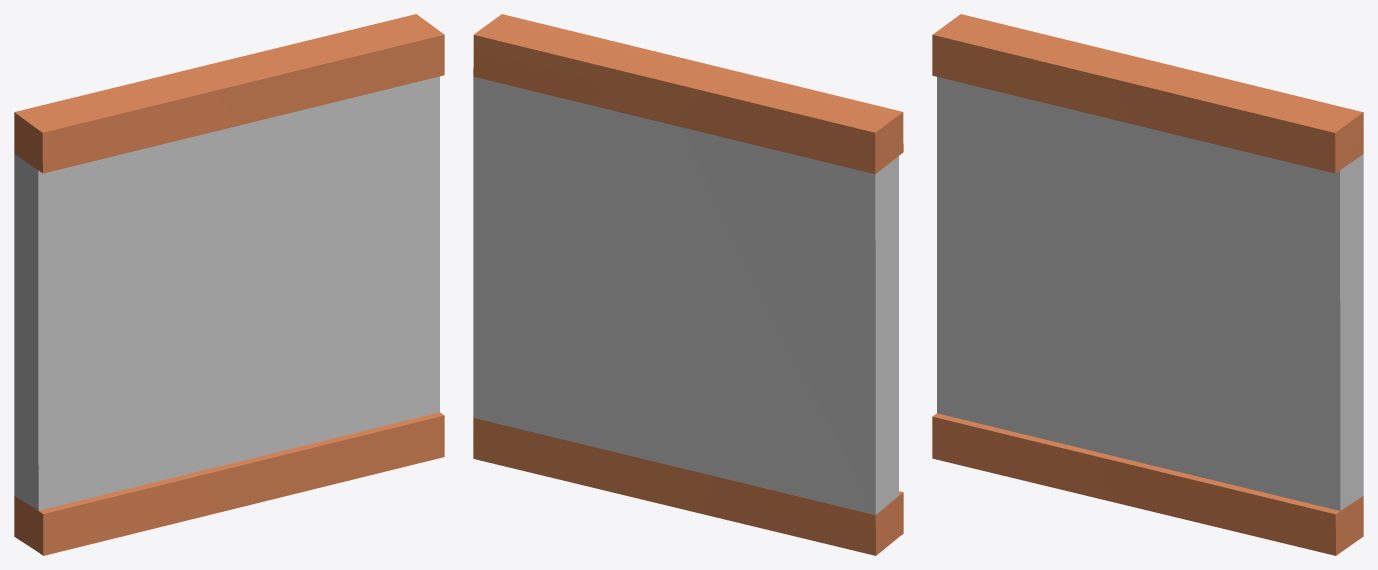
File: kapi.fbx
The picture shows the model from 3 angles, left to right: view 1: azimuth 30°, elevation 25°; view 2: azimuth 150°, elevation 25°; view 3: azimuth 330°, elevation 25°; orthographic projection.
Visible parts, largest first — view 1: kapiSol, kapiSag; view 2: kapiSol, kapiSag; view 3: kapiSag, kapiSol.
Part boxes in pixels (box(x1,y1,x2,y2)): kapiSol: box(14, 71, 259, 555); kapiSag: box(184, 14, 444, 511); kapiSol: box(654, 71, 903, 555); kapiSag: box(473, 14, 733, 512); kapiSag: box(1097, 55, 1363, 555); kapiSol: box(932, 14, 1158, 501).
Size of the model in its own units: 372 by 374 by 47.14.
